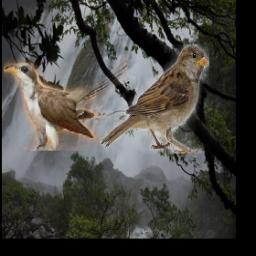Cuckoo: (5, 56, 128, 152)
Sparrow: (100, 45, 209, 155)
